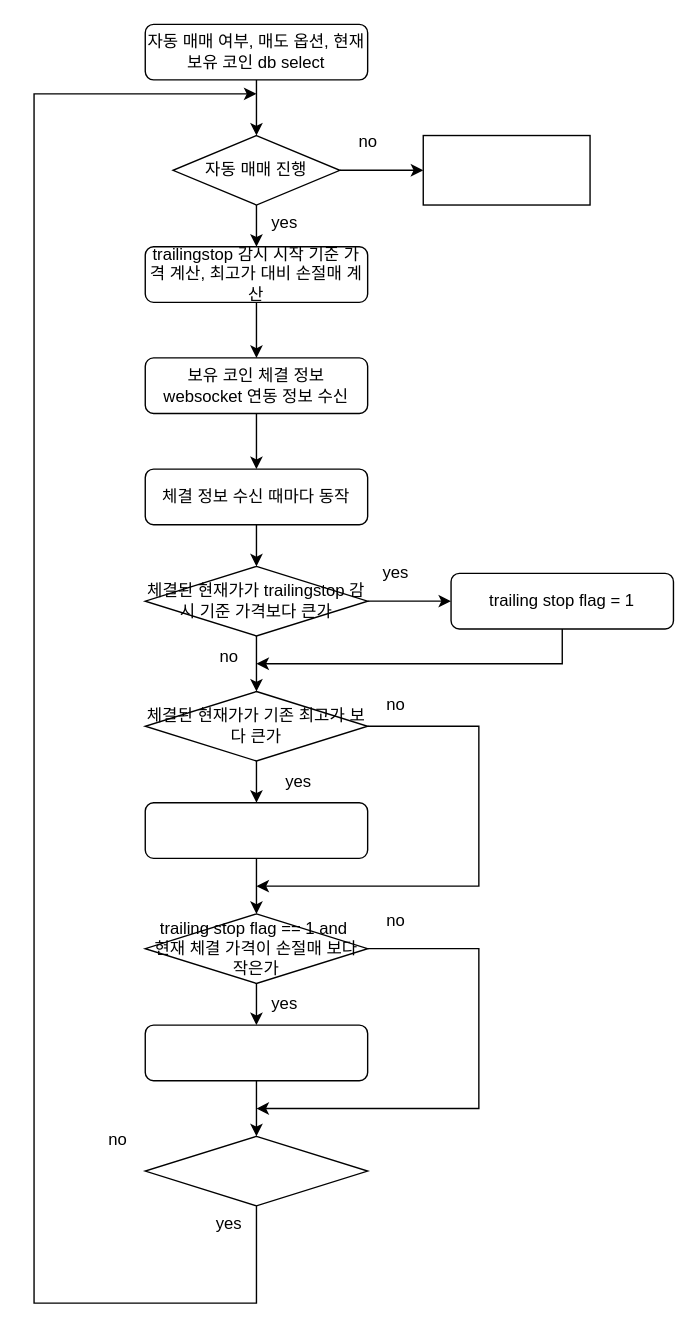
This 698x1339 diagram has some shape labels left out. Each missing label, with the box of its shape:
max = 현재 체결가격: (144, 801, 368, 858)
매도 주문, 주문 테이블 저장, 보유 코인 상태 변경: (144, 1024, 368, 1081)
프로세스 종료: (422, 134, 590, 205)
현재 시간 분 단위가 바뀌었나: (144, 1135, 368, 1206)
